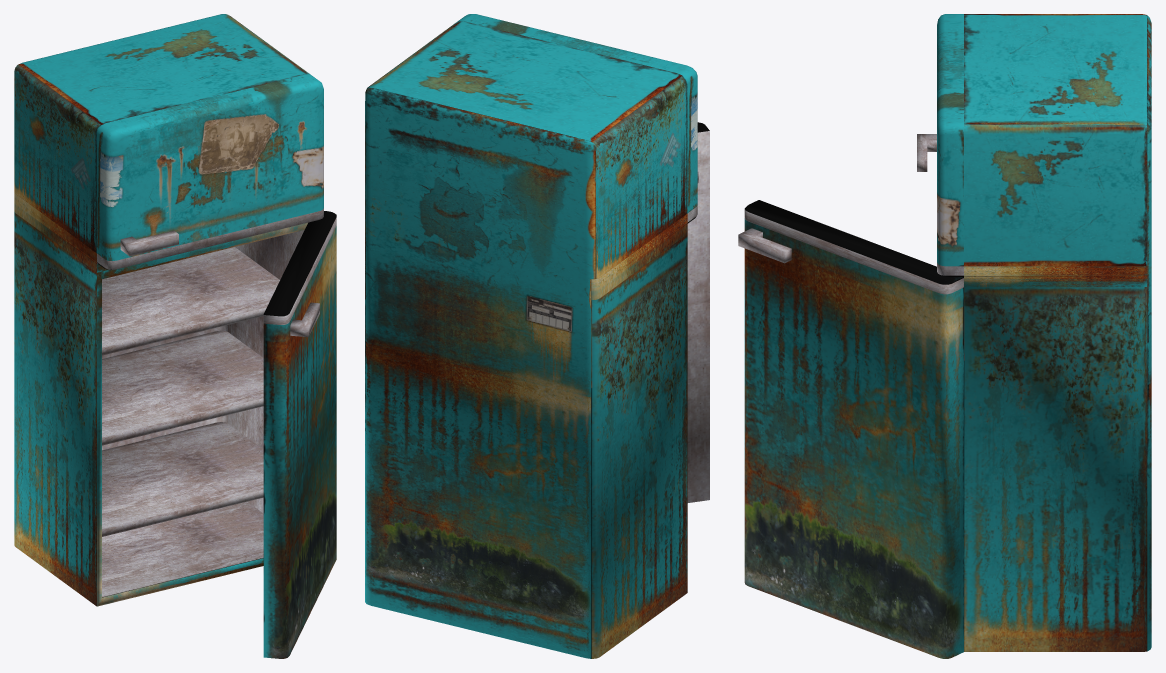
Rendered from fridje.fbx.
The picture shows the model from 3 angles, left to right: view 1: azimuth 30°, elevation 25°; view 2: azimuth 150°, elevation 25°; view 3: azimuth 270°, elevation 25°; orthographic projection. The views are drawn at different scales.
Parts seen in each view (by area): view 1: Cube; view 2: Cube; view 3: Cube.
Boxes of the visible parts, bbox=[...] form: Cube: bbox=[14, 14, 336, 658]; Cube: bbox=[365, 14, 709, 658]; Cube: bbox=[738, 14, 1151, 658].
Size of the model in its own units: 271 by 541 by 385.
